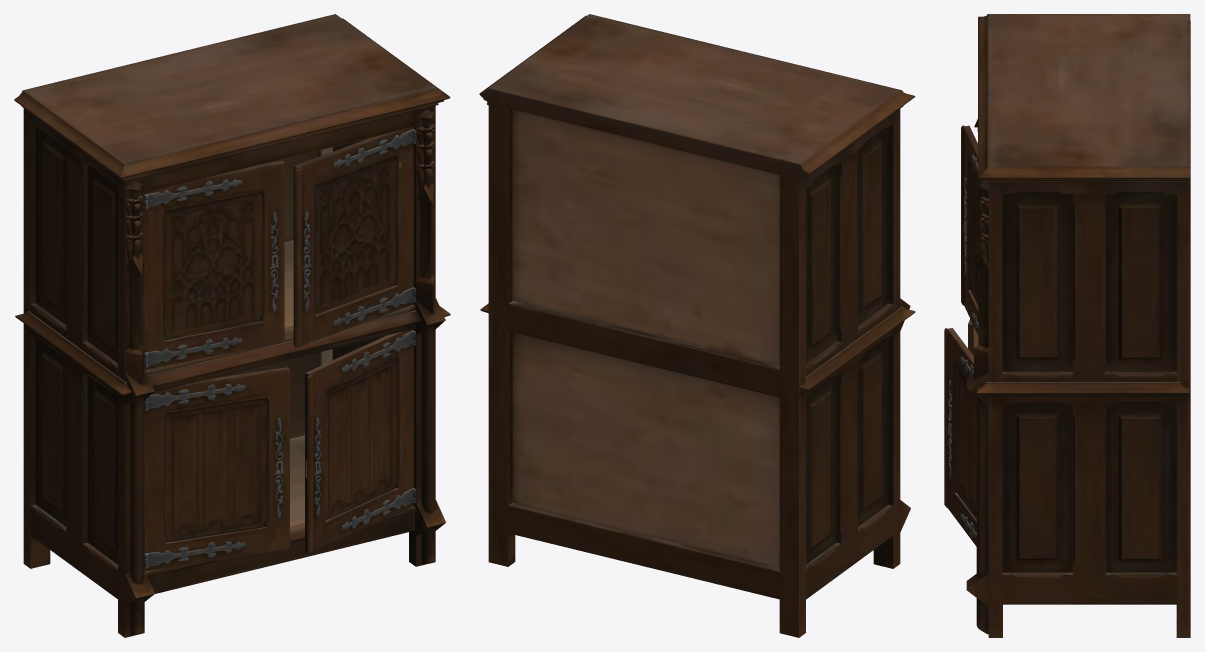
Rendered from GothicCabinet_01.glb.
The picture shows the model from 3 angles, left to right: view 1: azimuth 30°, elevation 25°; view 2: azimuth 150°, elevation 25°; view 3: azimuth 270°, elevation 25°; orthographic projection.
Visible parts, largest first — view 1: GothicCabinet_01_cabinet; view 2: GothicCabinet_01_cabinet; view 3: GothicCabinet_01_cabinet.
Part boxes in pixels (bbox=[...]): GothicCabinet_01_cabinet: bbox=[14, 14, 450, 637]; GothicCabinet_01_cabinet: bbox=[479, 14, 915, 637]; GothicCabinet_01_cabinet: bbox=[944, 14, 1190, 637].
Bounding box in the file's own units: 1.72 × 2.36 × 1.12.
Materials: 1 (1 with a texture image).
